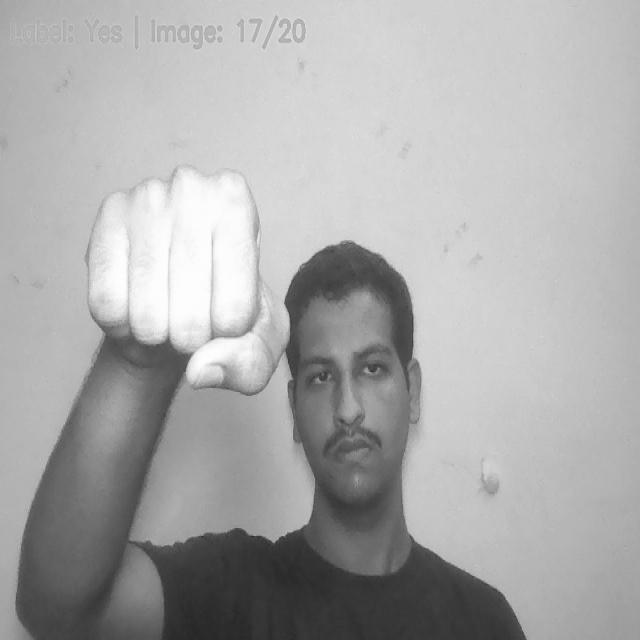Yes: (90, 163, 290, 398)
